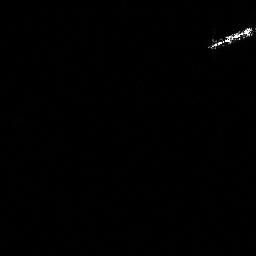ship: (202, 23, 256, 52)
